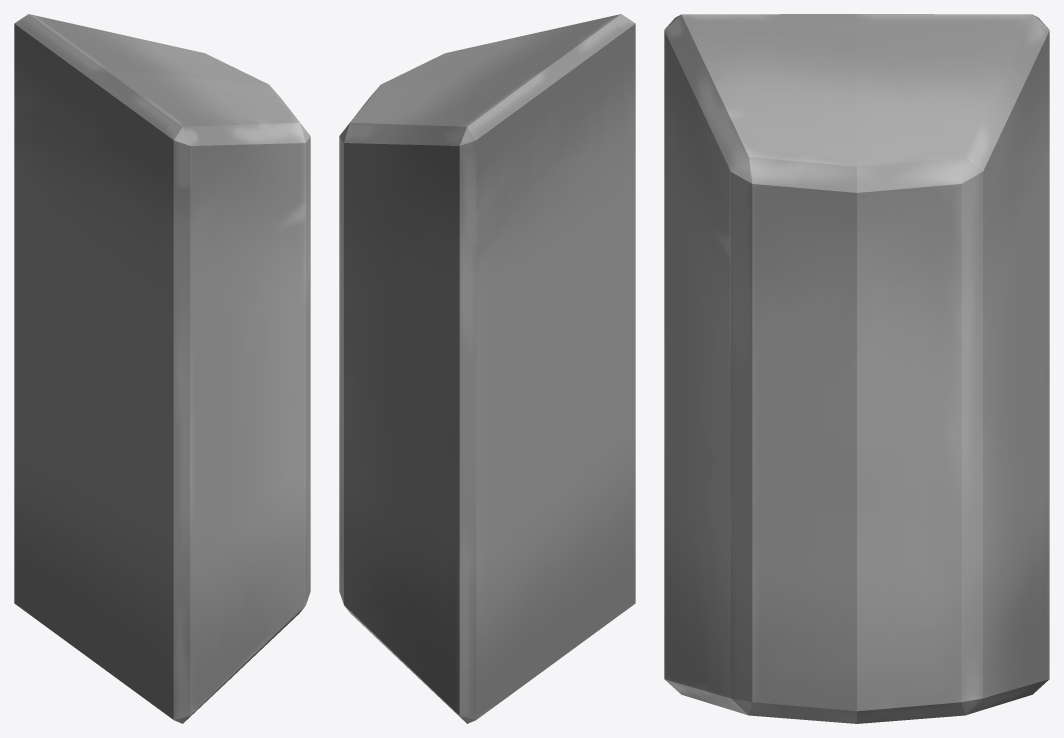
Rendered from Ingot.fbx.
3 renders of one model, left to right at view 1: azimuth 30°, elevation 25°; view 2: azimuth 150°, elevation 25°; view 3: azimuth 270°, elevation 25°, orthographic. The views are drawn at different scales.
Visible parts, largest first — view 1: Ingot; view 2: Ingot; view 3: Ingot.
Boxes of the visible parts, left/top/right/bottom form: Ingot: left=14, top=14, right=310, bottom=723; Ingot: left=339, top=14, right=635, bottom=723; Ingot: left=664, top=14, right=1049, bottom=723.
Bounding box in the file's own units: 55.48 × 169 × 86.86.
Materials: 1 (1 with a texture image).
